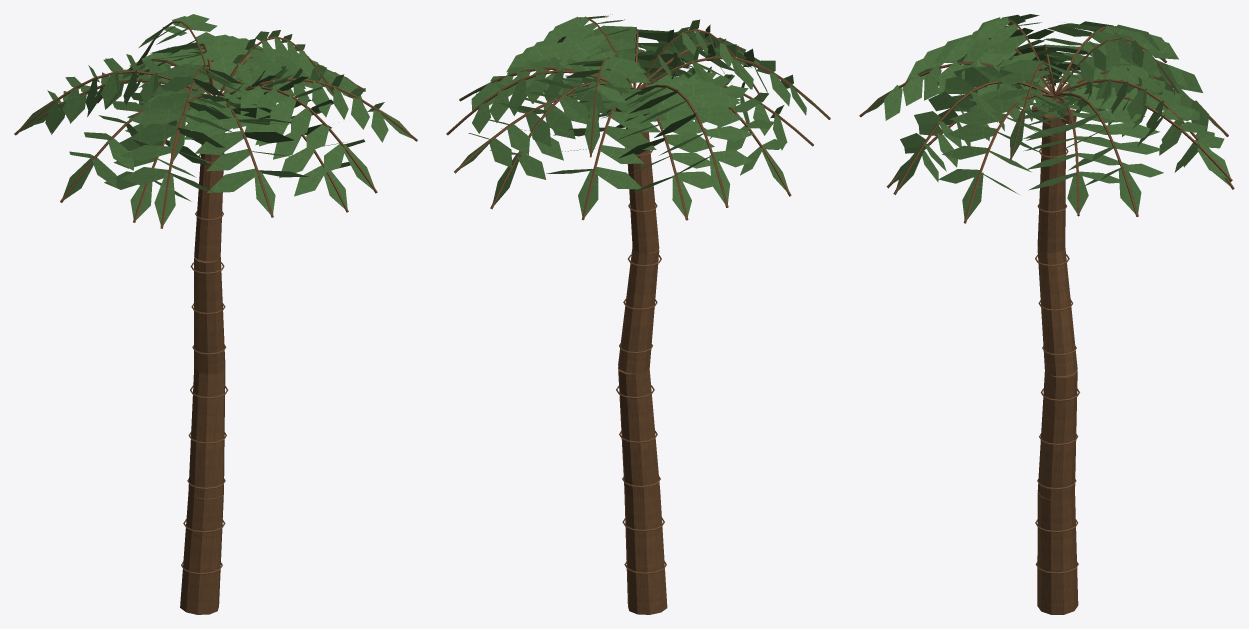
Rendered from en-007_palm_tree_variant_set__mature.obj.
3 renders of one model, left to right at view 1: azimuth 30°, elevation 25°; view 2: azimuth 150°, elevation 25°; view 3: azimuth 270°, elevation 25°, orthographic. The views are drawn at different scales.
Parts seen in each view (by area): view 1: en-007_palm_tree_variant_set__mature; view 2: en-007_palm_tree_variant_set__mature; view 3: en-007_palm_tree_variant_set__mature.
Part boxes in pixels (box(x1,y1,x2,y2)): en-007_palm_tree_variant_set__mature: box(14, 14, 417, 614); en-007_palm_tree_variant_set__mature: box(446, 14, 830, 614); en-007_palm_tree_variant_set__mature: box(859, 14, 1234, 614).
Size of the model in its own units: 2.66 by 4.5 by 2.66.
2 materials, 2 textured.
